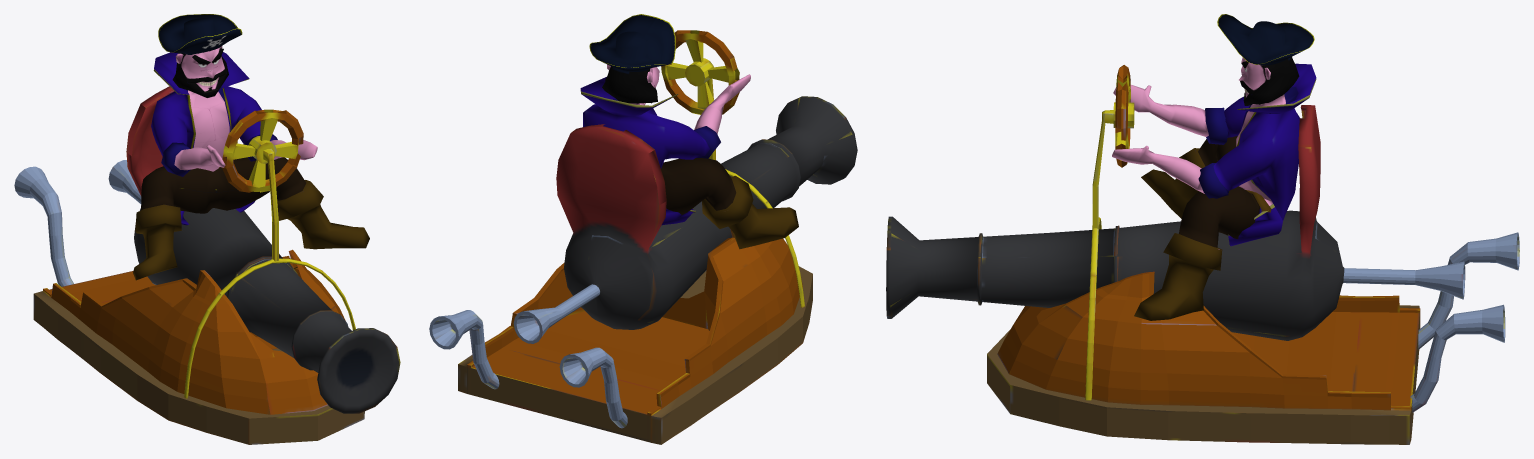
Rendered from pirataGiroDER_000285.obj.
The picture shows the model from 3 angles, left to right: view 1: azimuth 30°, elevation 25°; view 2: azimuth 150°, elevation 25°; view 3: azimuth 270°, elevation 25°; orthographic projection. The views are drawn at different scales.
Parts seen in each view (by area): view 1: carro_pirata, Pirata_PirataH; view 2: carro_pirata, Pirata_PirataH; view 3: carro_pirata, Pirata_PirataH.
Part boxes in pixels (x1,y1,x2,y2): carro_pirata: (14,86,400,444); Pirata_PirataH: (133,14,369,280); carro_pirata: (429,30,857,444); Pirata_PirataH: (580,14,798,249); carro_pirata: (886,65,1519,444); Pirata_PirataH: (1112,14,1316,320).
Size of the model in its own units: 5.65 by 7.7 by 12.1.
Materials: 2 (2 with a texture image).
